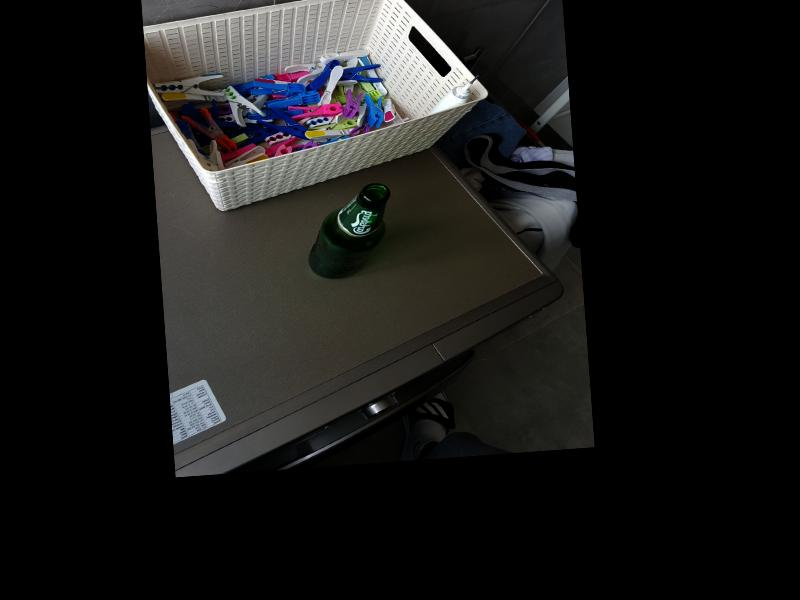Beer: (305, 184, 396, 281)
